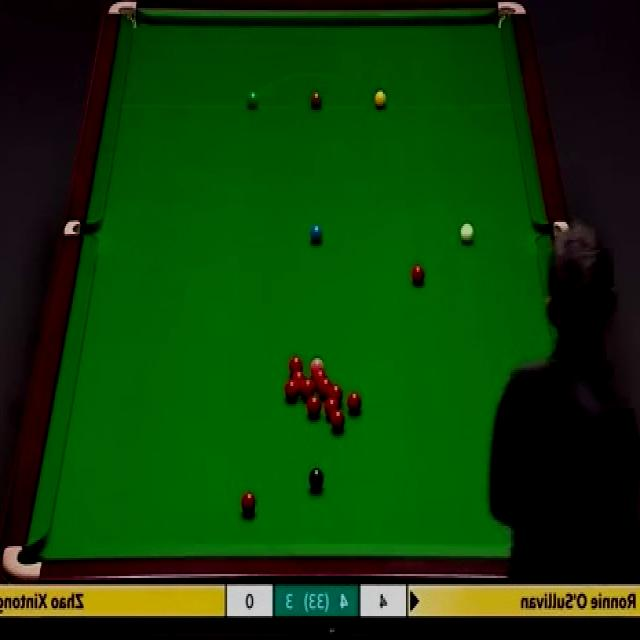pocket: (1, 540, 45, 585), (495, 0, 531, 34), (110, 0, 139, 32), (67, 220, 103, 235), (537, 218, 567, 236)
